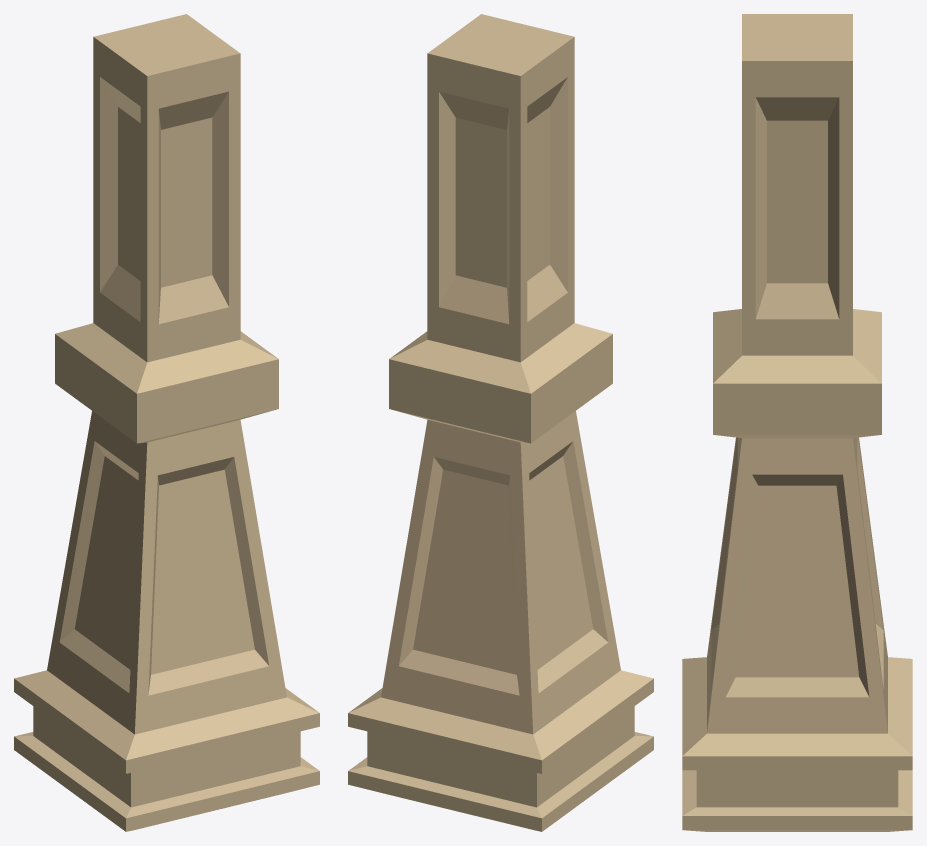
Rendered from SM_TemplePillar03_Gaeta.fbx.
The picture shows the model from 3 angles, left to right: view 1: azimuth 30°, elevation 25°; view 2: azimuth 150°, elevation 25°; view 3: azimuth 270°, elevation 25°; orthographic projection. The views are drawn at different scales.
Visible parts, largest first — view 1: Cube.041; view 2: Cube.041; view 3: Cube.041.
Boxes of the visible parts, bbox=[...] form: Cube.041: bbox=[14, 14, 319, 831]; Cube.041: bbox=[348, 14, 653, 831]; Cube.041: bbox=[682, 14, 912, 831].
Size of the model in its own units: 0.5133 by 1.86 by 0.5133.
